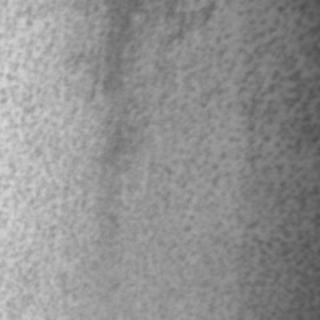pitted_surface: (120, 2, 316, 314), (6, 2, 174, 314)
